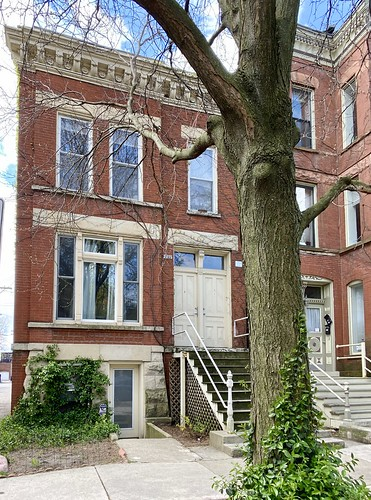building: (17, 35, 370, 428)
door: (171, 265, 230, 347)
window: (54, 234, 146, 332), (57, 116, 94, 195), (110, 122, 147, 201), (184, 136, 221, 215)
